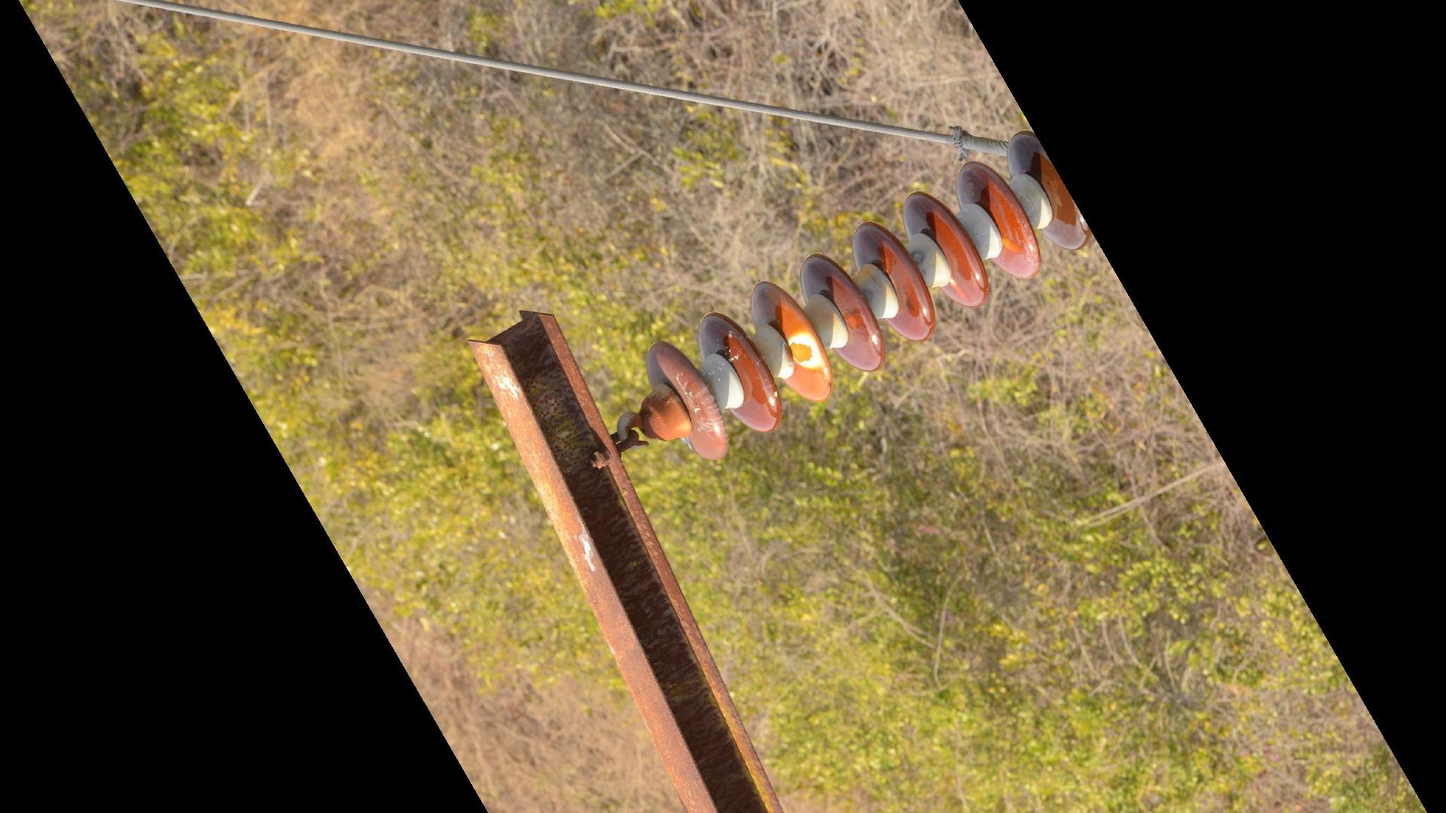insulator: (642, 128, 1097, 465)
insulator_flashover: (785, 325, 825, 370), (999, 233, 1028, 257), (947, 276, 969, 303)
